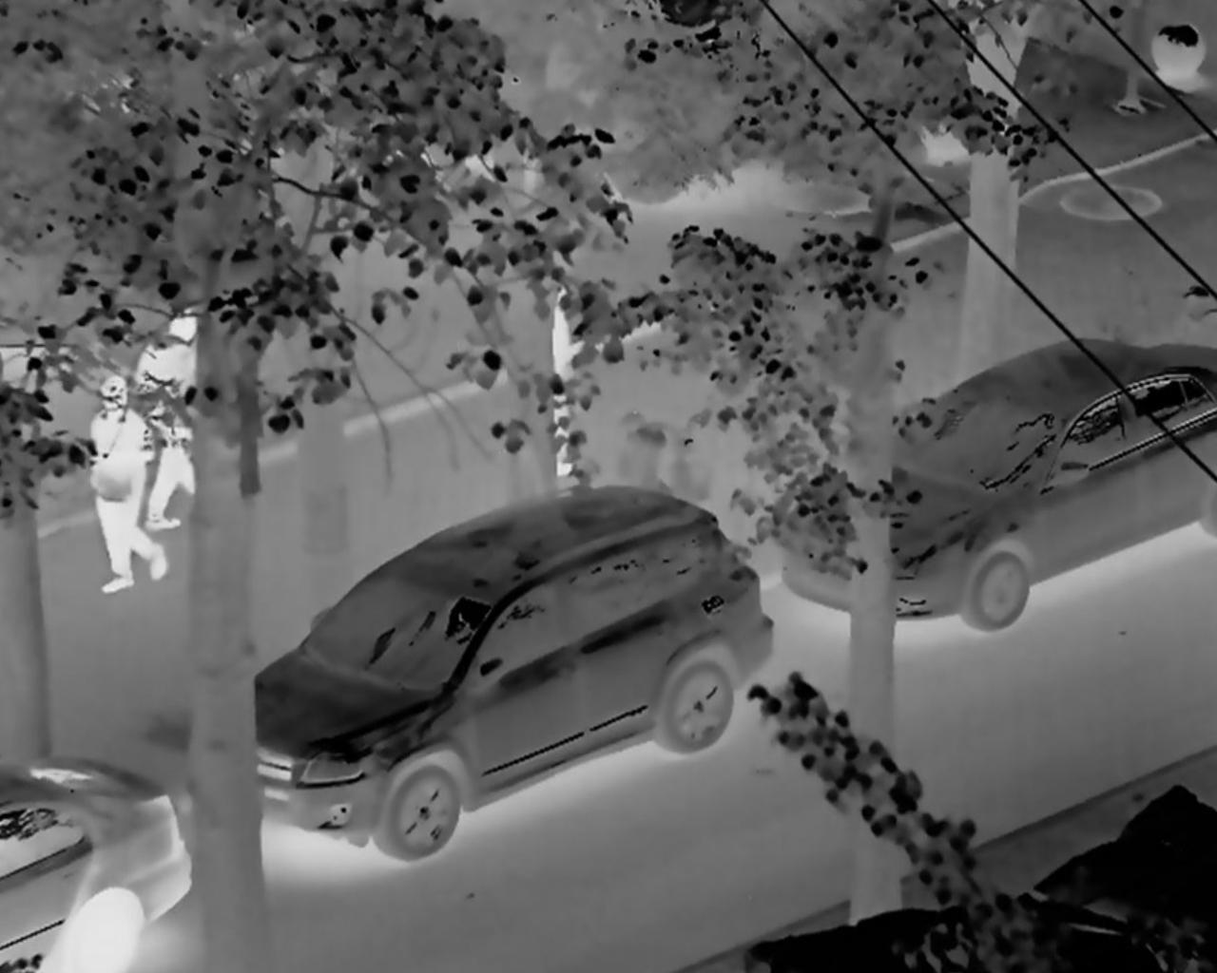person: (74, 371, 168, 616), (121, 307, 208, 516), (535, 245, 599, 479)
